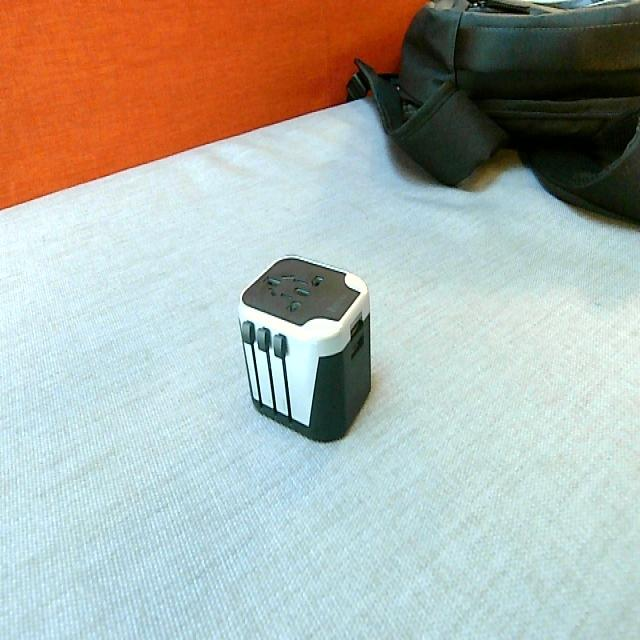adapter: (237, 253, 372, 443)
